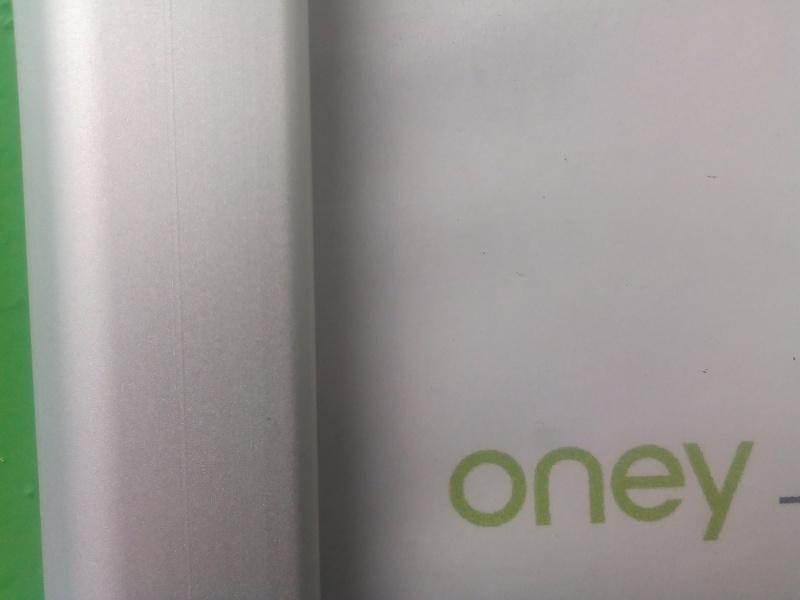text: (449, 440, 464, 547), (465, 440, 480, 547), (481, 440, 496, 547), (497, 440, 512, 547), (513, 440, 528, 547), (529, 440, 544, 547), (545, 440, 560, 547), (561, 440, 576, 547), (577, 440, 592, 547), (593, 440, 608, 547), (609, 440, 624, 547), (625, 440, 640, 547), (641, 440, 656, 547), (657, 440, 672, 547), (673, 440, 688, 547), (689, 440, 704, 547), (705, 440, 720, 547), (721, 440, 736, 547), (737, 440, 752, 547), (753, 440, 760, 547), (785, 494, 800, 505), (778, 494, 784, 505)
